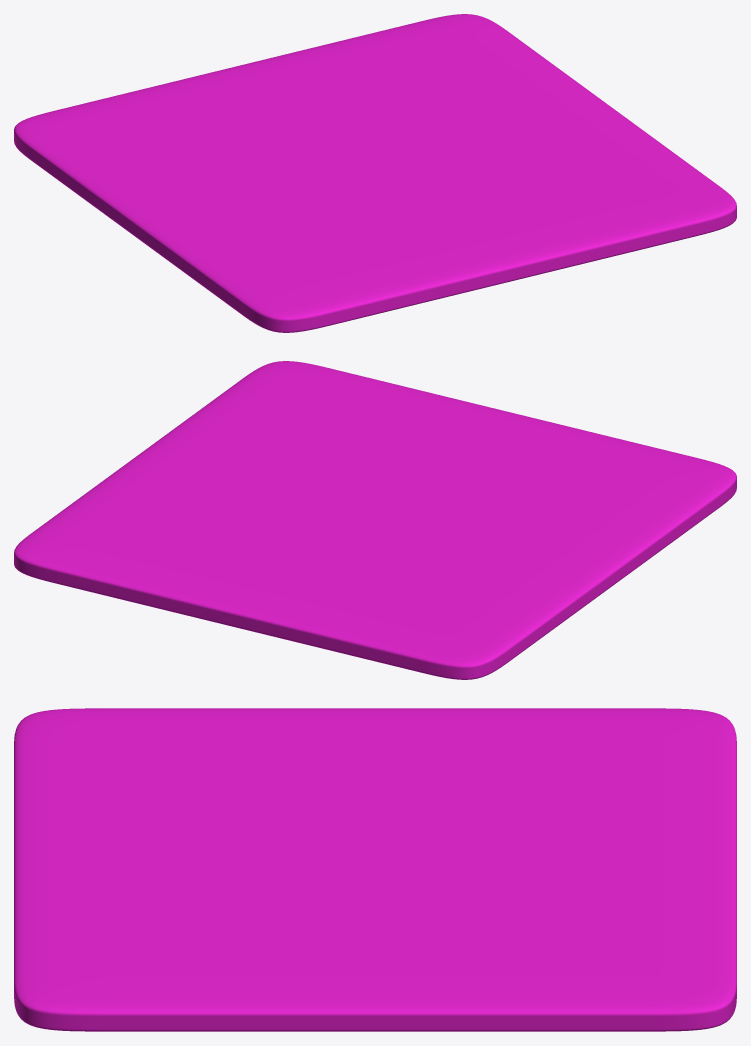
Rendered from Card_4.fbx.
3 renders of one model, top to bottom at view 1: azimuth 30°, elevation 25°; view 2: azimuth 150°, elevation 25°; view 3: azimuth 270°, elevation 25°, orthographic. The views are drawn at different scales.
Visible parts, largest first — view 1: AARF.006; view 2: AARF.006; view 3: AARF.006.
Part boxes in pixels (box(x1,y1,x2,y2)): AARF.006: box(14, 14, 736, 332); AARF.006: box(14, 361, 736, 679); AARF.006: box(14, 708, 736, 1031).
Size of the model in its own units: 50 by 2 by 50.
